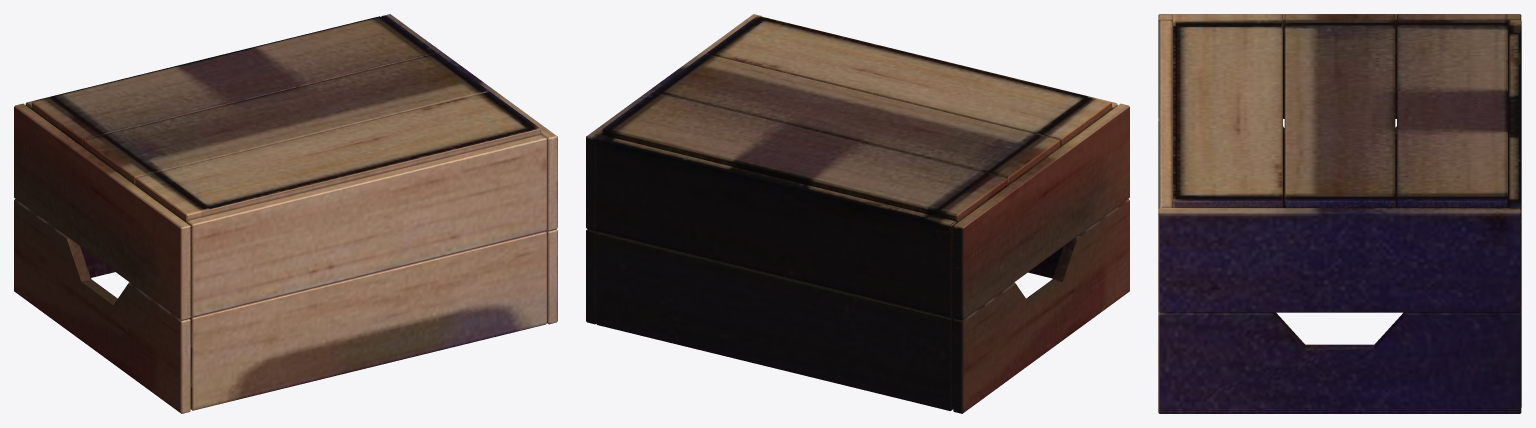
The model's file is wood_box_center.glb.
3 renders of one model, left to right at view 1: azimuth 30°, elevation 25°; view 2: azimuth 150°, elevation 25°; view 3: azimuth 270°, elevation 25°, orthographic. The views are drawn at different scales.
Parts seen in each view (by area): view 1: wood_box_center; view 2: wood_box_center; view 3: wood_box_center.
Part boxes in pixels (left/top/right/bottom): wood_box_center: left=14, top=14, right=557, bottom=413; wood_box_center: left=586, top=14, right=1129, bottom=413; wood_box_center: left=1158, top=14, right=1521, bottom=413.
Bounding box in the file's own units: 2.7 × 1.31 × 2.08.
1 material, 1 textured.
